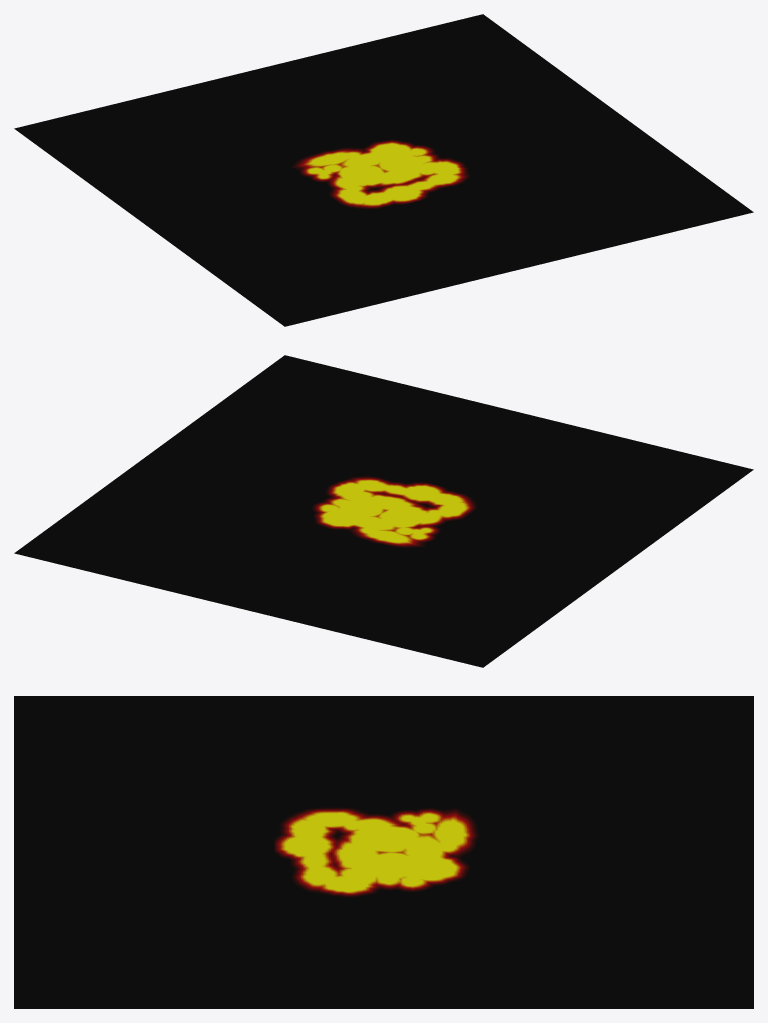
3 renders of one model, top to bottom at view 1: azimuth 30°, elevation 25°; view 2: azimuth 150°, elevation 25°; view 3: azimuth 270°, elevation 25°, orthographic. The views are drawn at different scales.
Visible parts, largest first — view 1: LagoonTide; view 2: LagoonTide; view 3: LagoonTide.
Boxes of the visible parts, x1,y1,x2,y2 form: LagoonTide: (14, 14, 753, 326); LagoonTide: (14, 355, 753, 667); LagoonTide: (14, 696, 753, 1008).
Bounding box in the file's own units: 310 × 6.88e-14 × 310.
